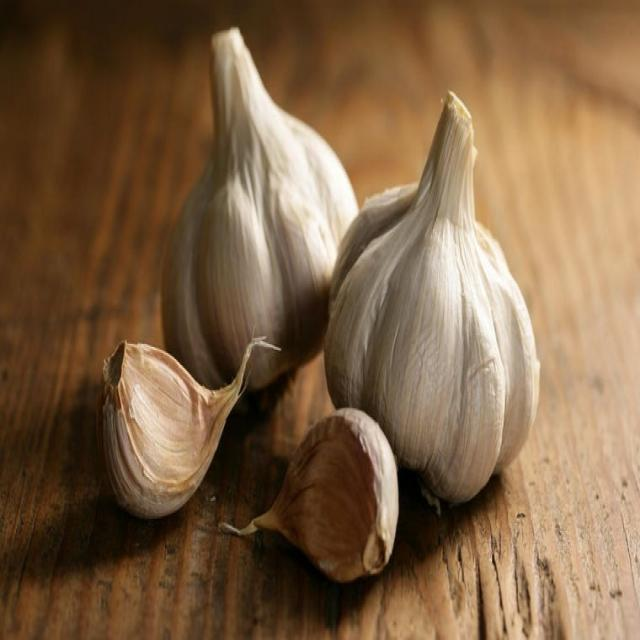garlic: (330, 140, 548, 432), (156, 80, 325, 382), (276, 404, 396, 588), (96, 344, 220, 522)
